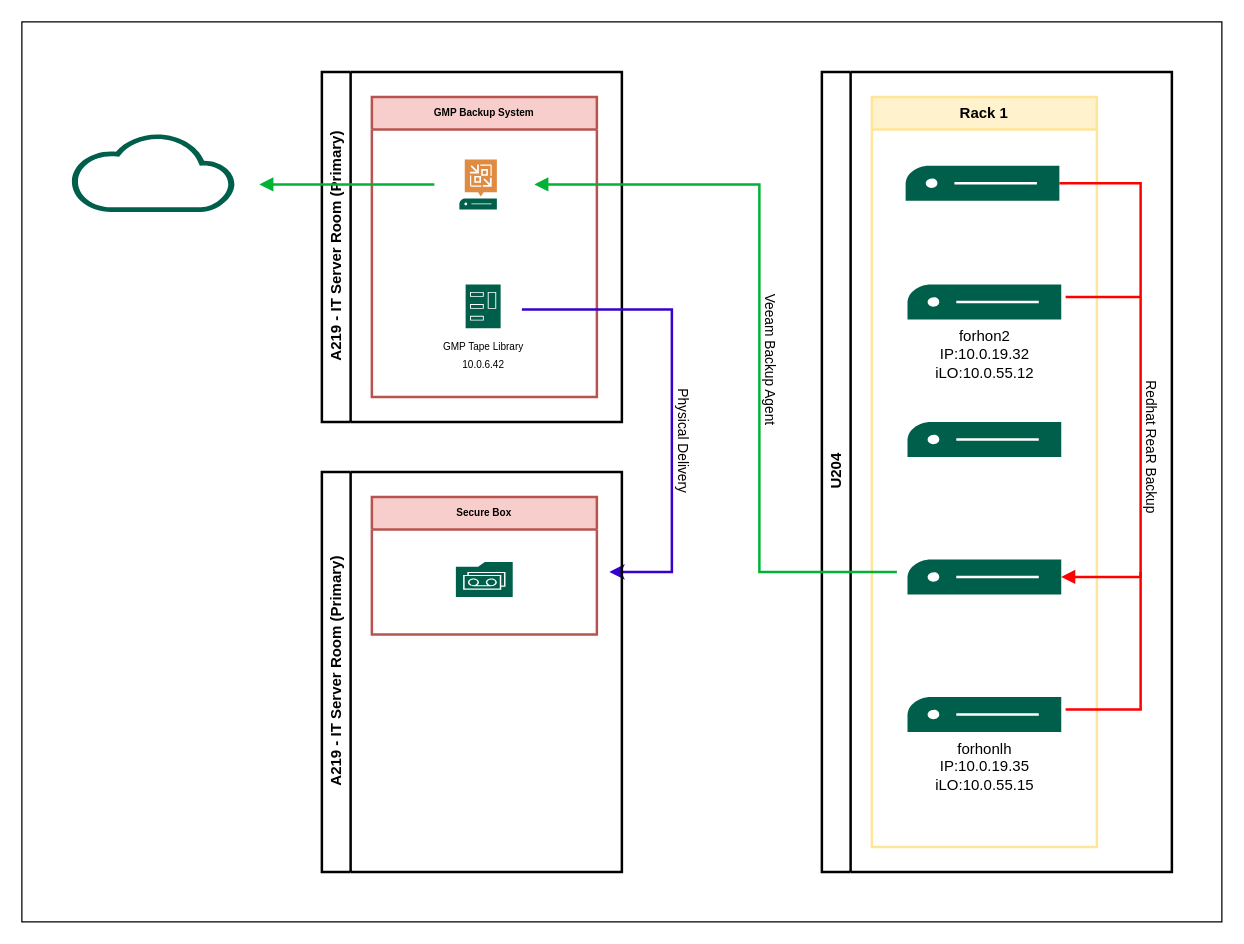
Image size: 1244x944. Some labels were removed from this diagram. The shapes that lost their labels are listed below. From the top down, each one's centre as x and y in pixels, then its label:
point 152,172: Wasibu Cloud immutability backup
point 477,184: GMP Data Backup Server ETE0024 10.0.6.40 10.0.19.40
point 982,182: forhon1 IP:10.0.19.31 iLO:10.0.55.11
point 984,438: forhontest IP:10.0.19.33 iLO:10.0.55.13
point 984,576: forhonbak IP:10.0.19.34 iLO:10.0.55.14
